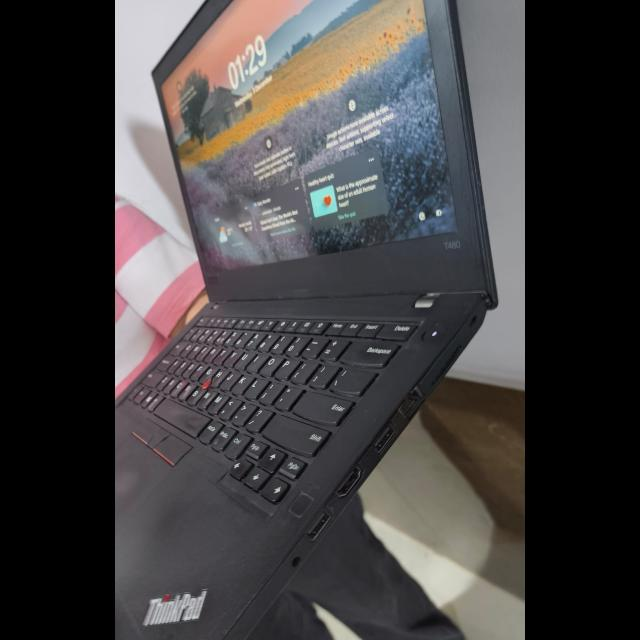laptop: (115, 11, 511, 640)
